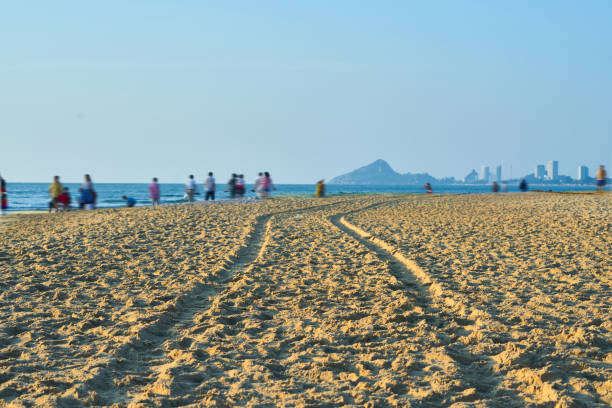vehicle_track: (65, 202, 337, 405), (328, 209, 464, 329)
